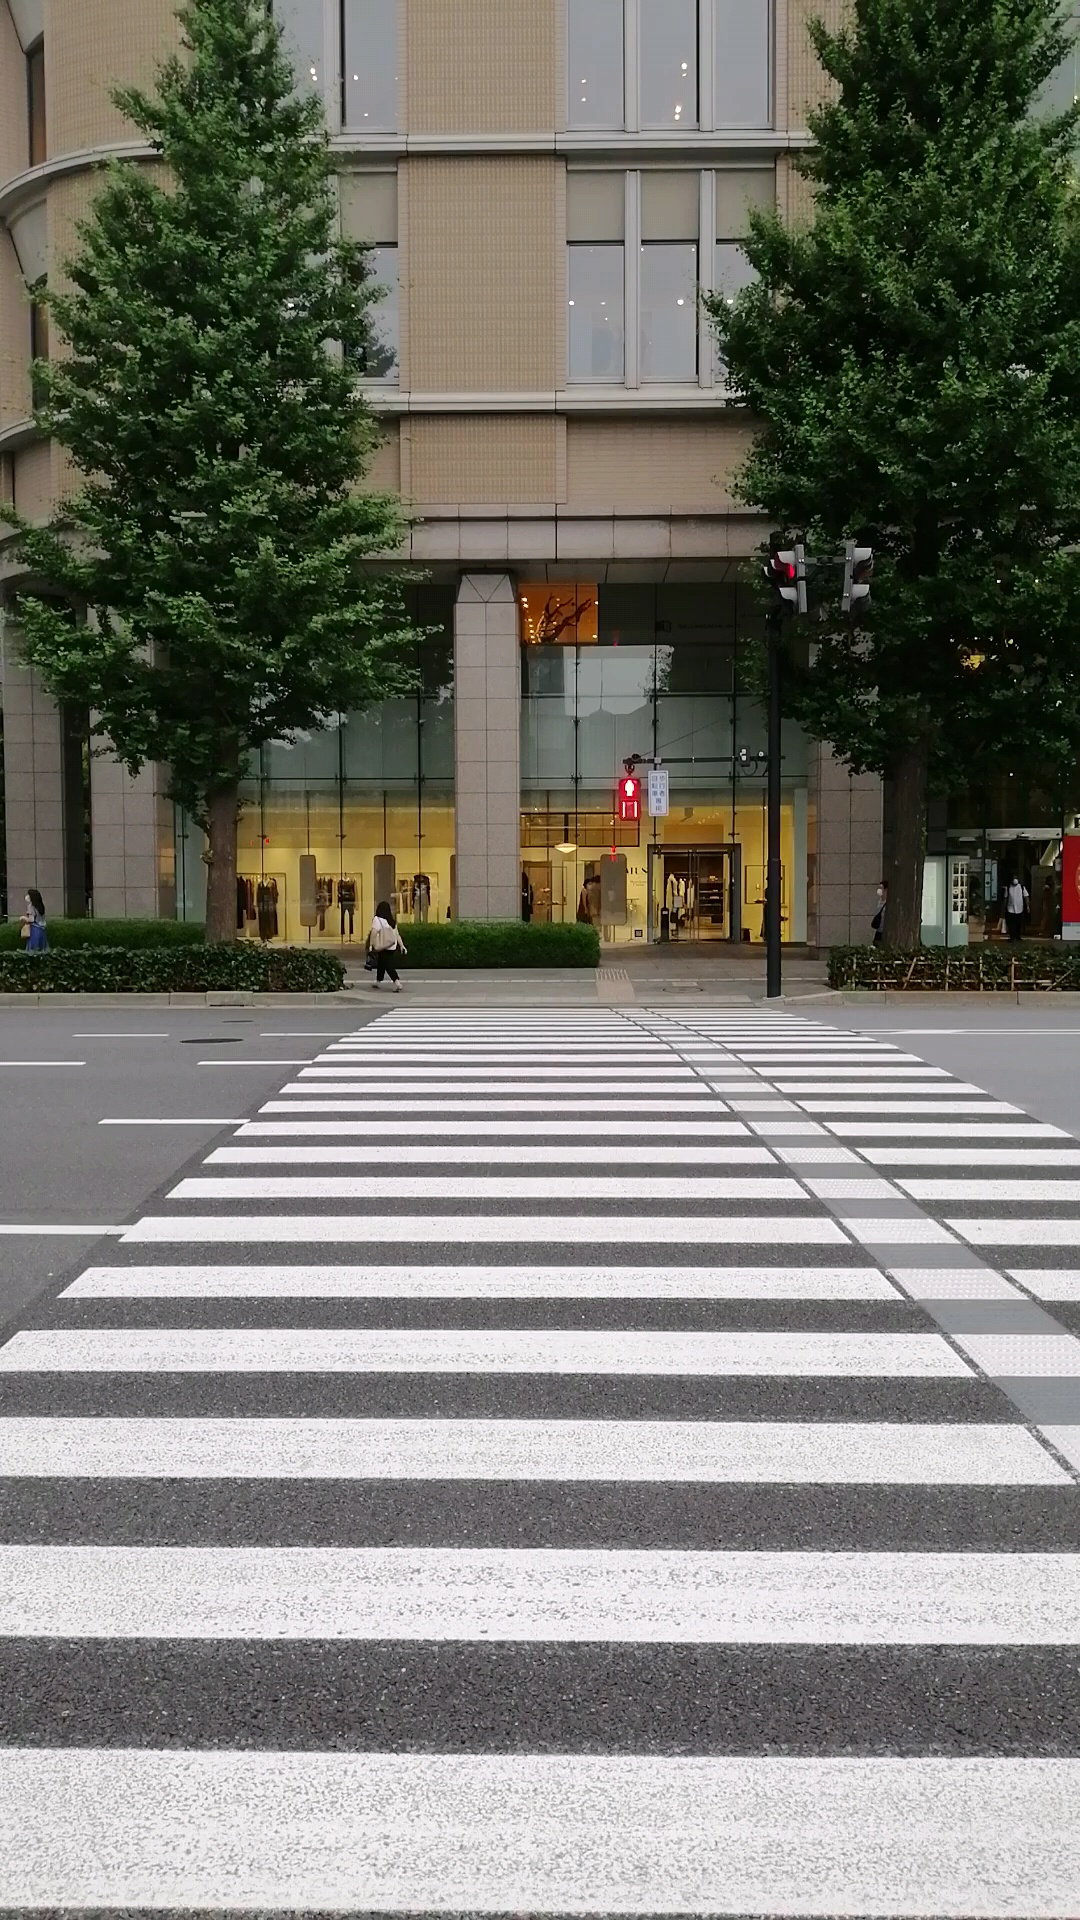red: (616, 775, 642, 822)
